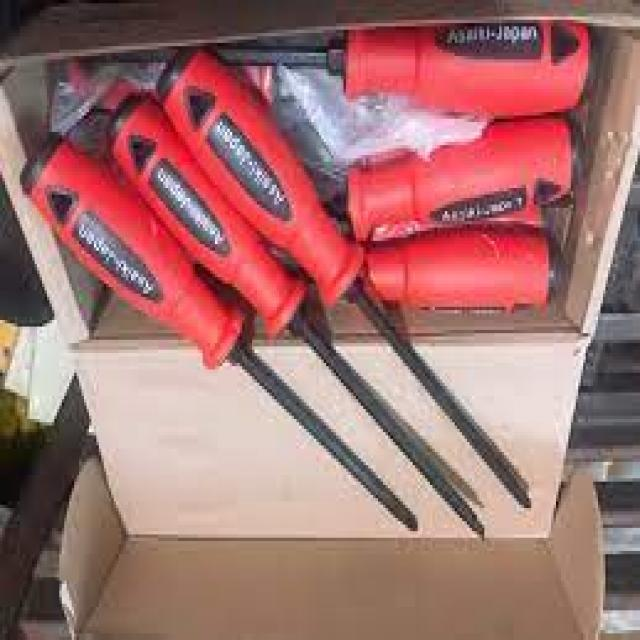screwdriver: (98, 88, 490, 544), (156, 49, 536, 514), (21, 132, 422, 534)
